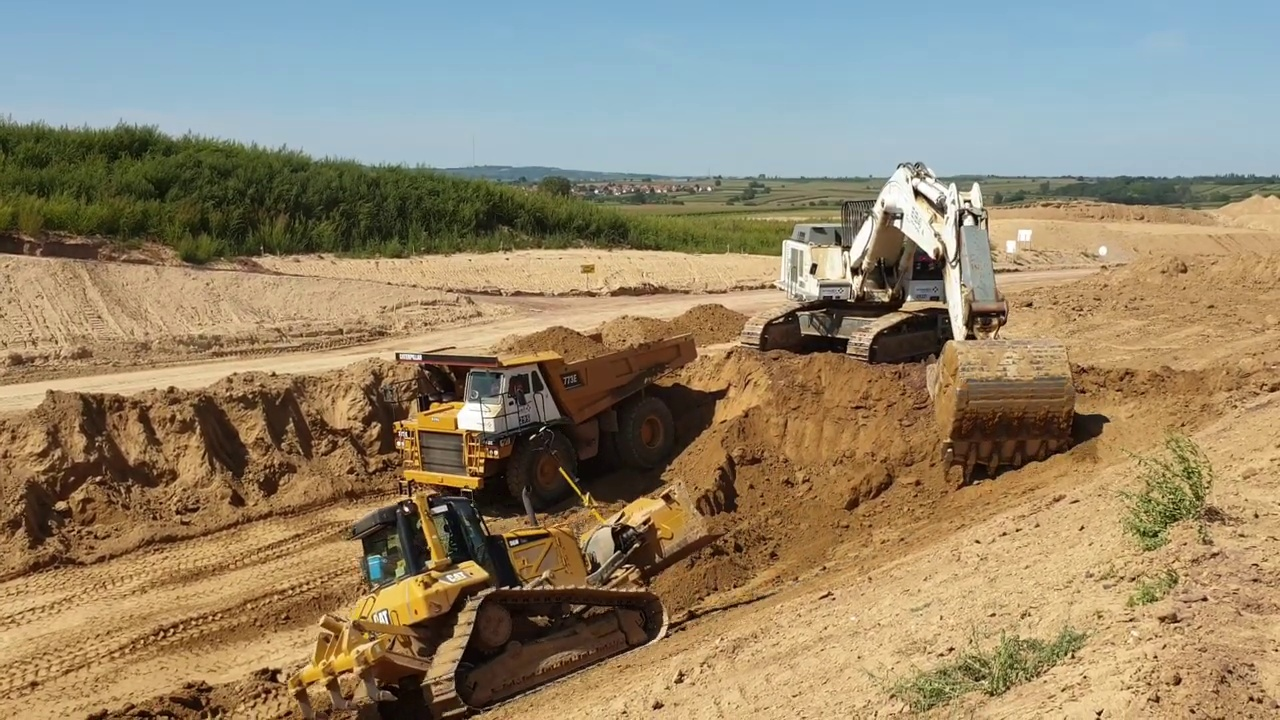bulldozer: (284, 427, 700, 720)
excavator: (737, 158, 1081, 492)
truck: (388, 327, 702, 516)
